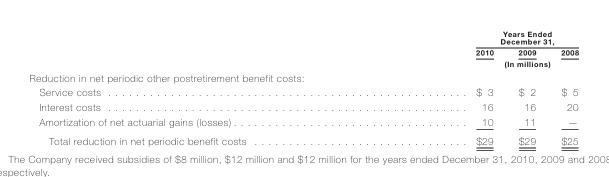table: (28, 28, 578, 145)
table column: (28, 28, 360, 145), (360, 28, 505, 145), (505, 28, 547, 145), (547, 28, 578, 145)
table column header: (28, 28, 578, 69)
table projected row header: (28, 69, 578, 84)
table row: (28, 28, 578, 46), (28, 114, 578, 130), (28, 69, 578, 84), (28, 84, 578, 99), (28, 99, 578, 114), (28, 130, 578, 145), (28, 57, 578, 69), (28, 46, 578, 57)
table spanning cell: (360, 28, 578, 46), (360, 57, 578, 69)
